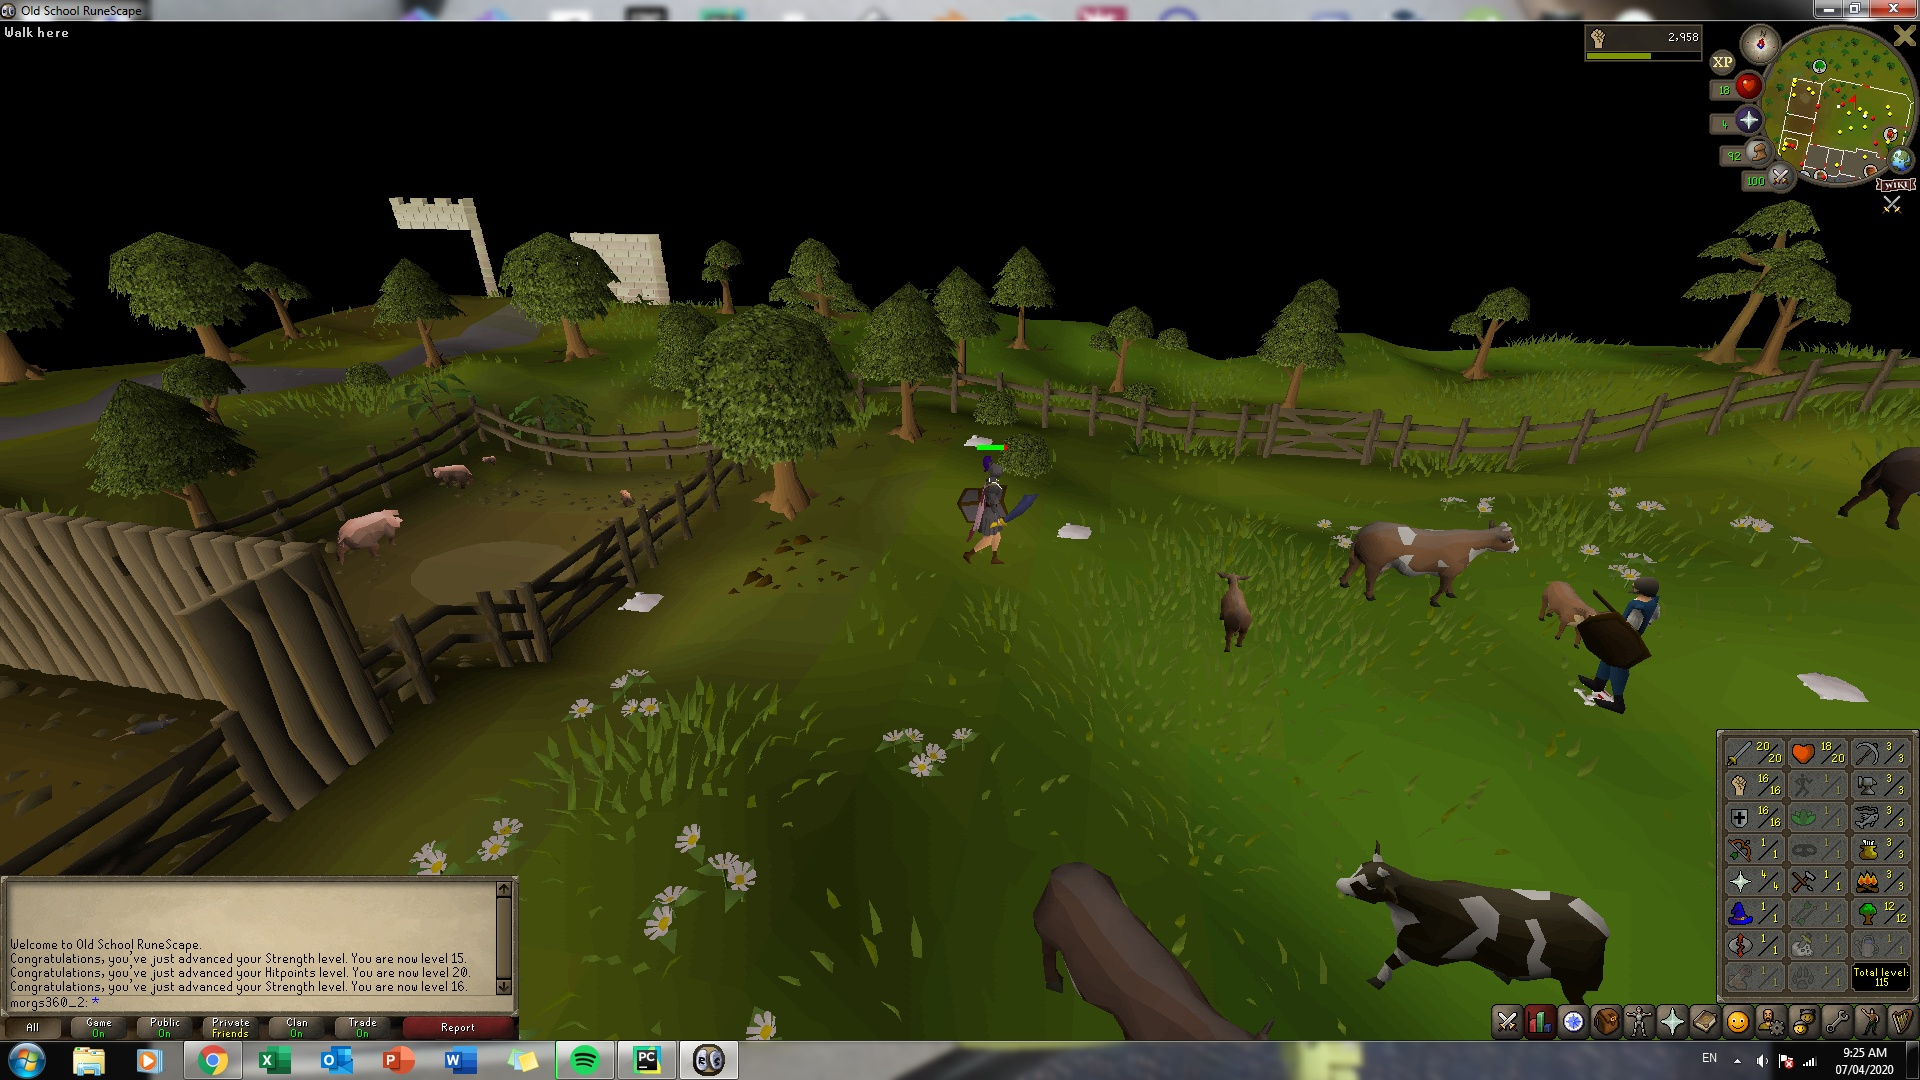cow: (1338, 840, 1610, 1004), (1033, 853, 1273, 1036), (1340, 514, 1523, 611), (1837, 439, 1916, 527)
